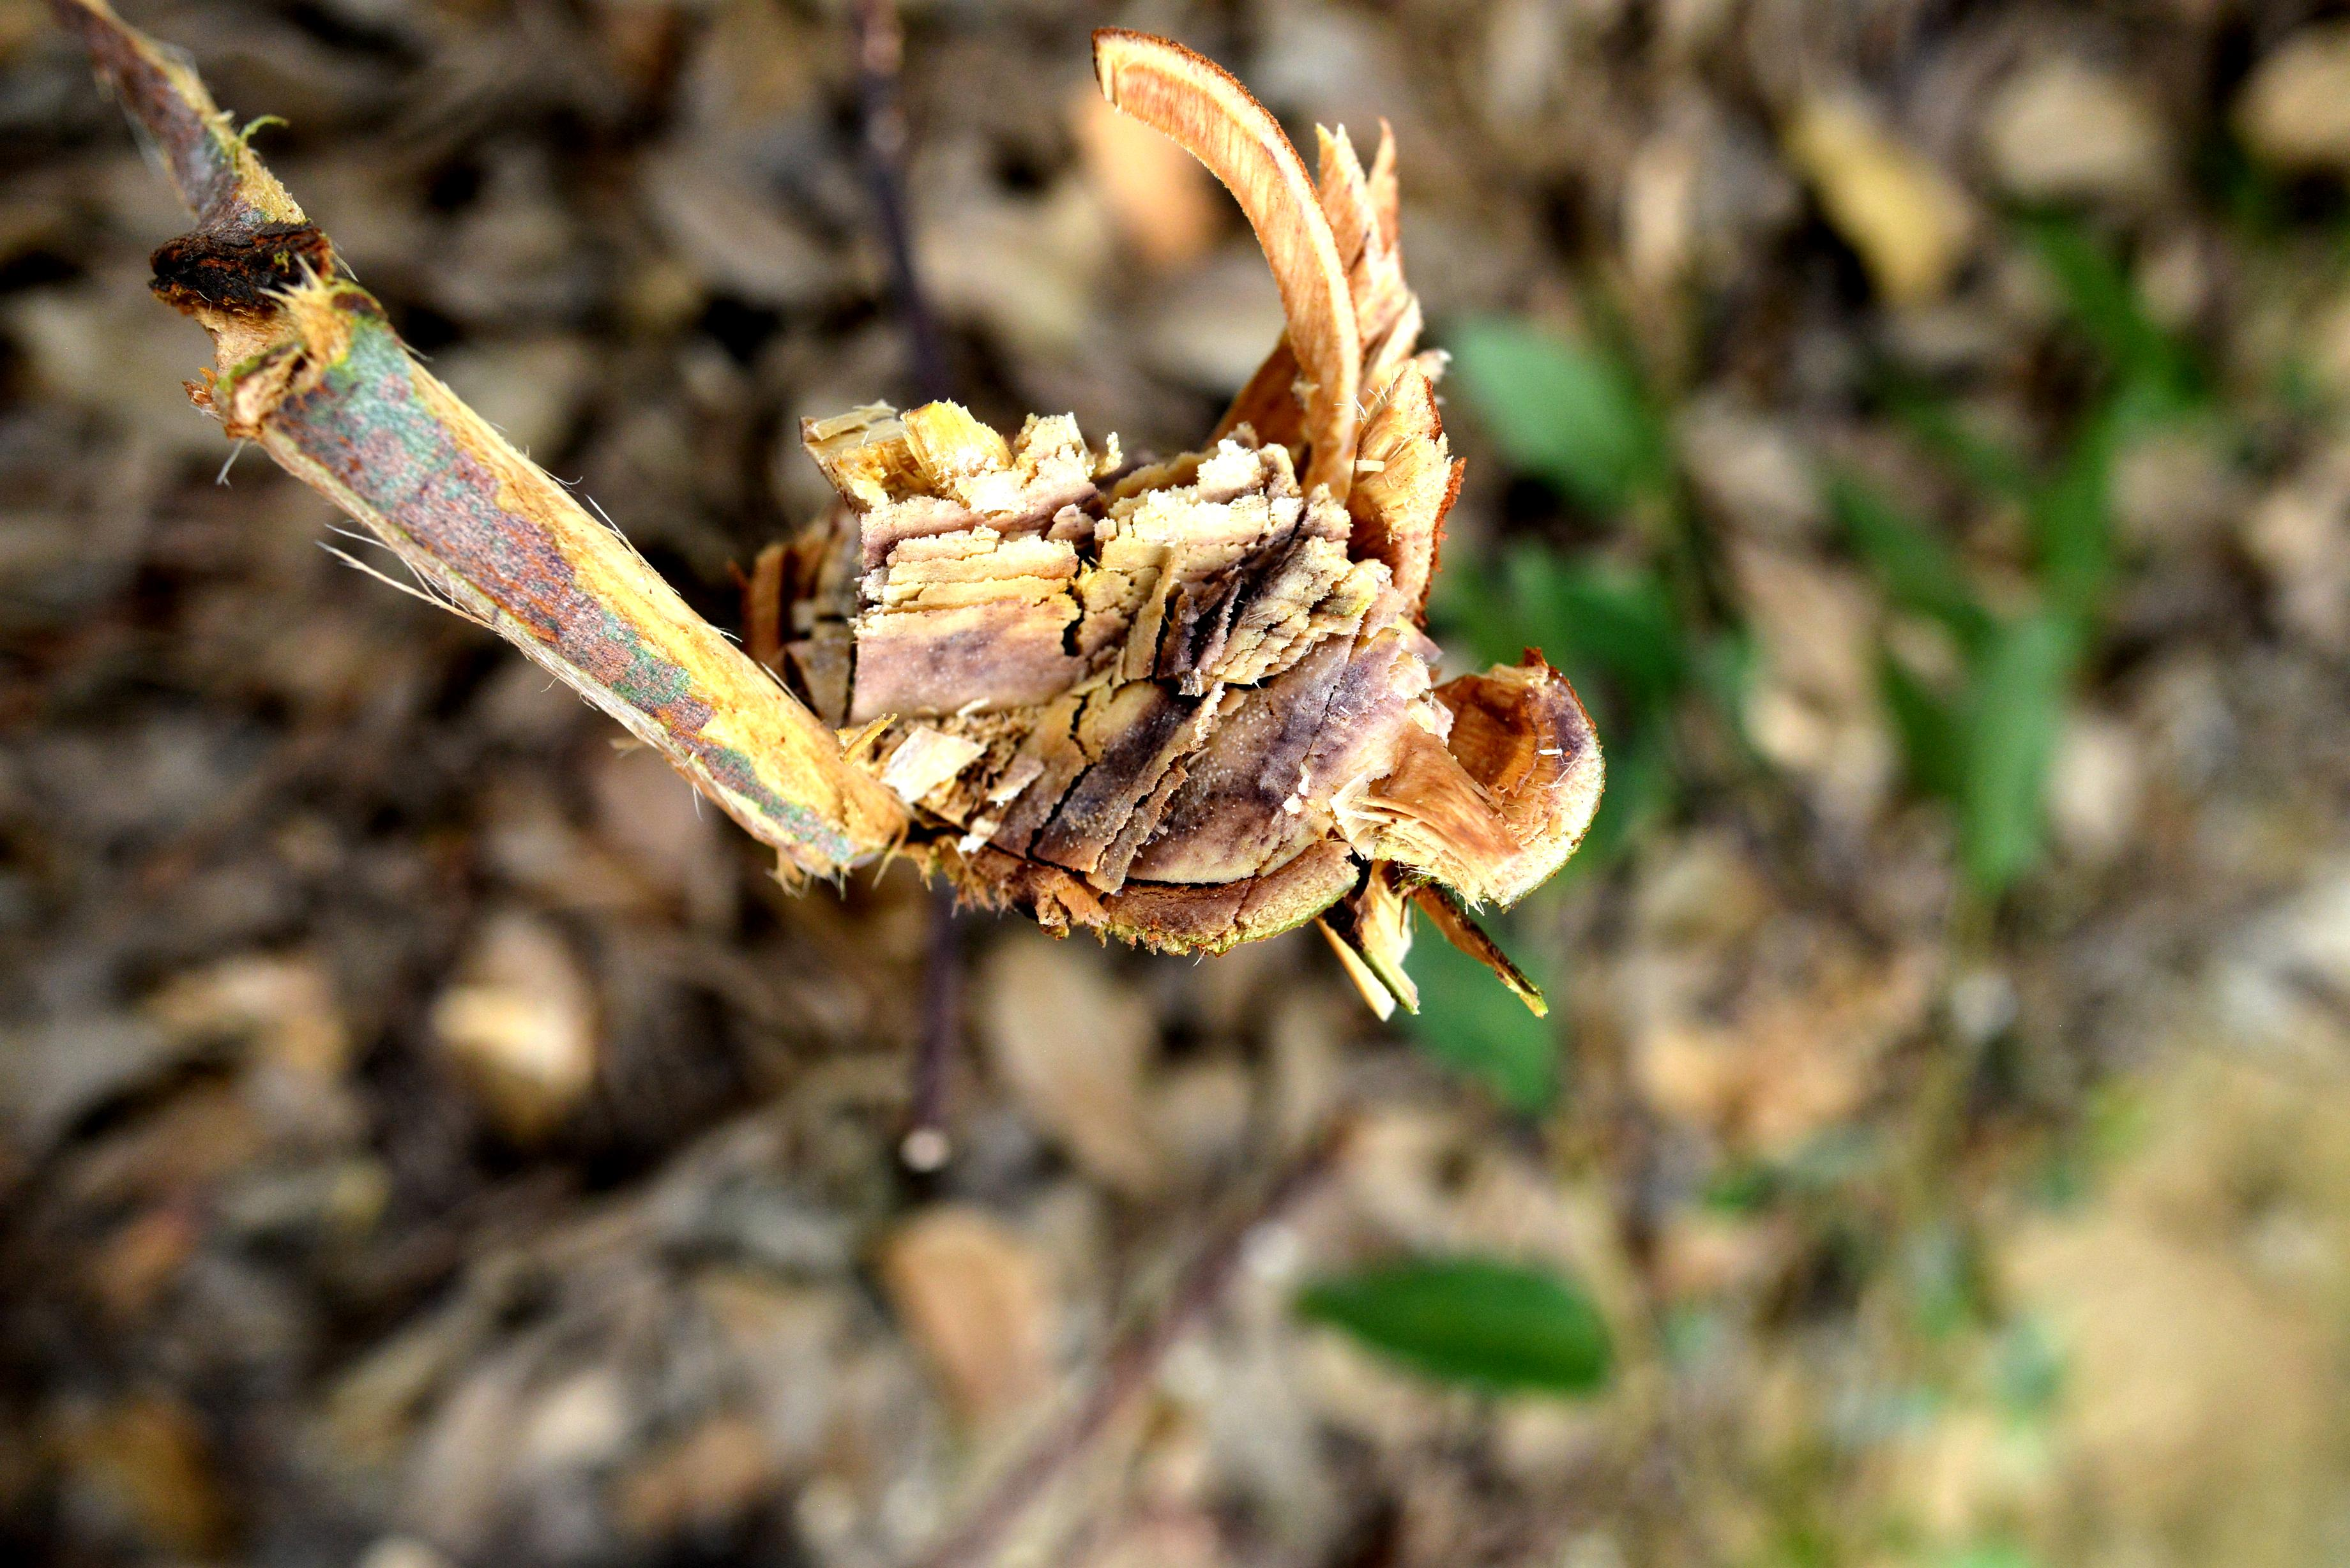Ralstonia: (1115, 497, 1382, 766), (1032, 775, 1286, 871), (898, 618, 990, 696), (1526, 682, 1573, 773), (926, 432, 1001, 478)
